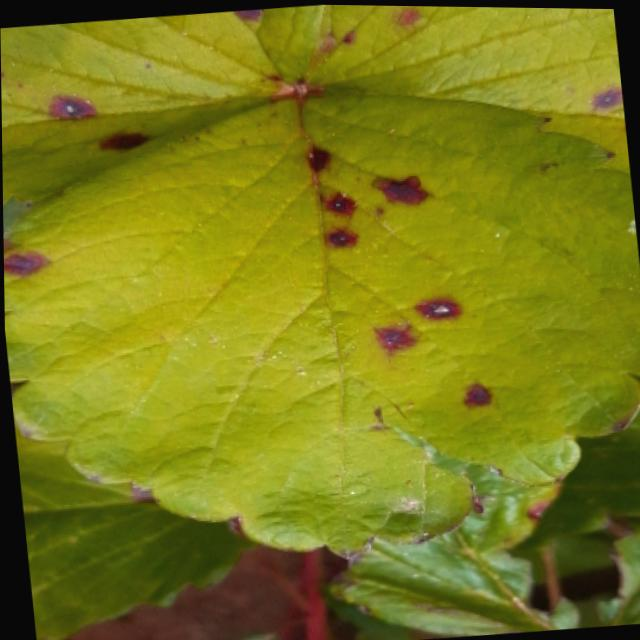Leaf Spot: (3, 91, 640, 559), (0, 4, 326, 209), (303, 4, 629, 169), (13, 430, 267, 640), (519, 409, 640, 545)
